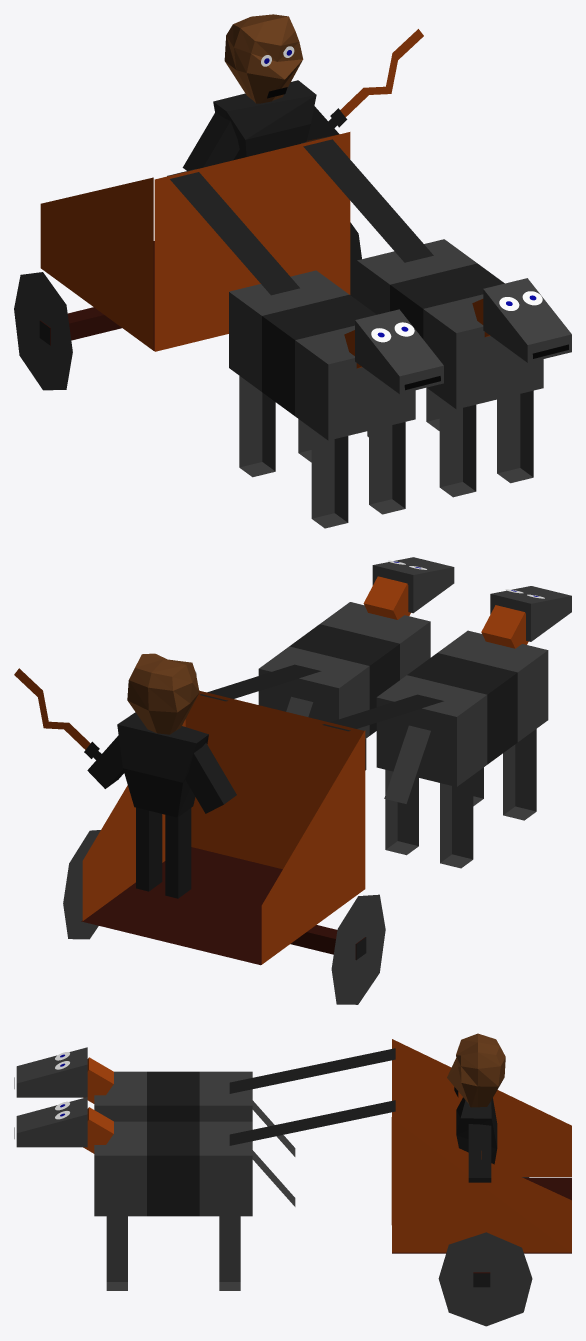
Rendered from heavychariot2f.obj.
3 views of the same model, one above another, from view 1: azimuth 30°, elevation 25°; view 2: azimuth 150°, elevation 25°; view 3: azimuth 270°, elevation 25° (orthographic). The views are drawn at different scales.
Visible parts, largest first — view 1: Plane.005_Plane.006, Cube.015_Cube.017, Cube.006_Cube.009, Plane.003, Plane.007_Plane.008, Cube, Cube.001, Cube.021_Cube.023, Cube.014_Cube.016, Plane.013_Plane.014, Plane.012_Plane.013, Cube.012_Cube.014 (+7 smaller); view 2: Plane.005_Plane.006, Cube.015_Cube.017, Cube.006_Cube.009, Plane.002, Plane.003, Cube.001, Plane.004, Cube, Plane.007_Plane.008, Cube.016_Cube.018, Cube.019_Cube.021, Cube.014_Cube.016 (+14 smaller); view 3: Plane.004, Cube.006_Cube.009, Plane.003, Cube.015_Cube.017, Plane.006_Plane.007, Cube, Cube.014_Cube.016, Cube.021_Cube.023, Plane.012_Plane.013, Plane.013_Plane.014, Cube.010_Cube.012, Cube.011_Cube.013 (+6 smaller).
Part boxes in pixels (<box>): Plane.005_Plane.006: <box>154,132,350,351</box>; Cube.015_Cube.017: <box>229,270,415,440</box>; Cube.006_Cube.009: <box>357,239,543,409</box>; Plane.003: <box>40,177,153,350</box>; Plane.007_Plane.008: <box>14,272,72,390</box>; Cube: <box>224,14,303,103</box>; Cube.001: <box>213,80,316,160</box>; Cube.021_Cube.023: <box>355,309,443,394</box>; Cube.014_Cube.016: <box>483,278,571,362</box>; Plane.013_Plane.014: <box>301,136,433,262</box>; Plane.012_Plane.013: <box>167,169,299,295</box>; Cube.012_Cube.014: <box>439,397,476,497</box>; Plane.005_Plane.006: <box>185,690,364,869</box>; Cube.015_Cube.017: <box>376,630,548,786</box>; Cube.006_Cube.009: <box>258,602,430,738</box>; Plane.002: <box>81,847,282,965</box>; Plane.003: <box>261,730,365,964</box>; Cube.001: <box>117,712,208,817</box>; Plane.004: <box>82,719,185,920</box>; Cube: <box>127,653,199,734</box>; Plane.007_Plane.008: <box>331,894,385,1004</box>; Cube.016_Cube.018: <box>440,775,473,868</box>; Cube.019_Cube.021: <box>503,729,536,820</box>; Cube.014_Cube.016: <box>372,557,454,613</box>; Plane.004: <box>391,1117,571,1252</box>; Cube.006_Cube.009: <box>94,1121,252,1216</box>; Plane.003: <box>392,1039,571,1176</box>; Cube.015_Cube.017: <box>94,1071,252,1121</box>; Plane.006_Plane.007: <box>438,1232,532,1326</box>; Cube: <box>447,1033,505,1107</box>; Cube.014_Cube.016: <box>16,1097,87,1147</box>; Cube.021_Cube.023: <box>16,1047,87,1097</box>; Plane.012_Plane.013: <box>229,1048,395,1093</box>; Plane.013_Plane.014: <box>229,1100,395,1145</box>; Cube.010_Cube.012: <box>219,1216,240,1290</box>; Cube.011_Cube.013: <box>106,1216,127,1290</box>.
Bounding box in the file's own units: 9.3 × 7.5 × 14.9.
